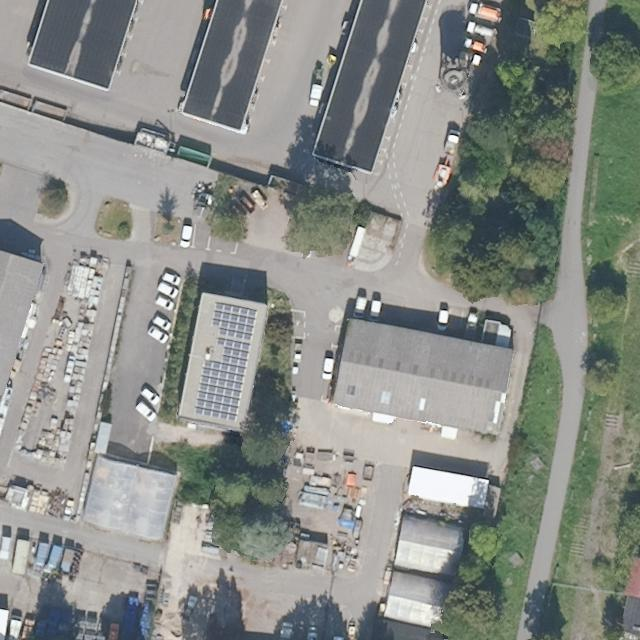PV: (191, 298, 260, 424)
